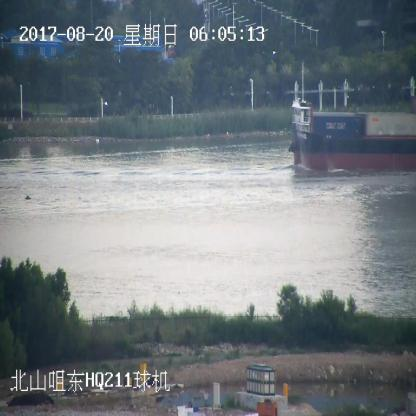Container Ship: (288, 94, 415, 174)
